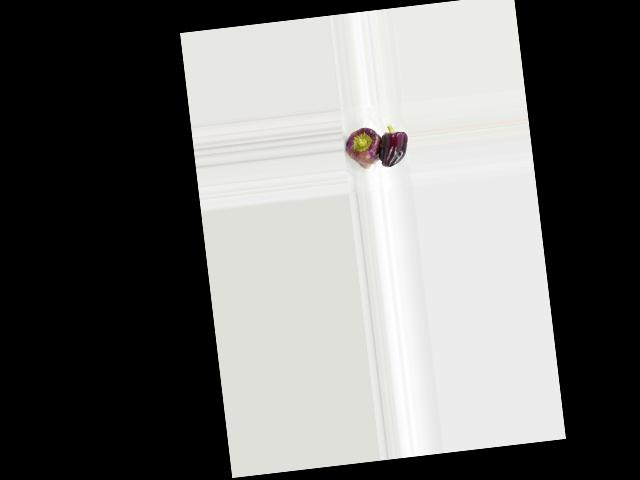bell_pepper: (341, 117, 386, 178)
